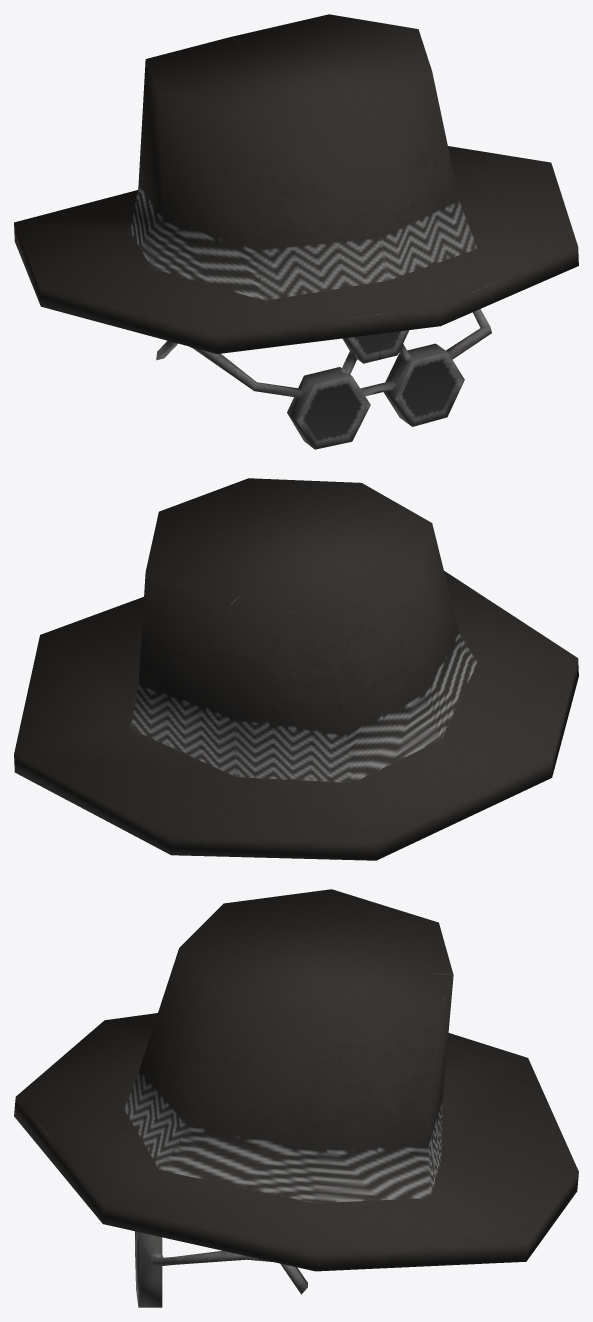
File: light_helmet.glb
The picture shows the model from 3 angles, top to bottom: view 1: azimuth 30°, elevation 25°; view 2: azimuth 150°, elevation 25°; view 3: azimuth 270°, elevation 25°; orthographic projection. The views are drawn at different scales.
Visible parts, largest first — view 1: light helmet skeleton; view 2: light helmet skeleton; view 3: light helmet skeleton.
Part boxes in pixels (left/top/right/bottom): light helmet skeleton: left=14, top=14, right=578, bottom=449; light helmet skeleton: left=14, top=478, right=578, bottom=860; light helmet skeleton: left=14, top=889, right=578, bottom=1307.
Size of the model in its own units: 0.3942 by 0.2299 by 0.3611.
1 material, 1 textured.
